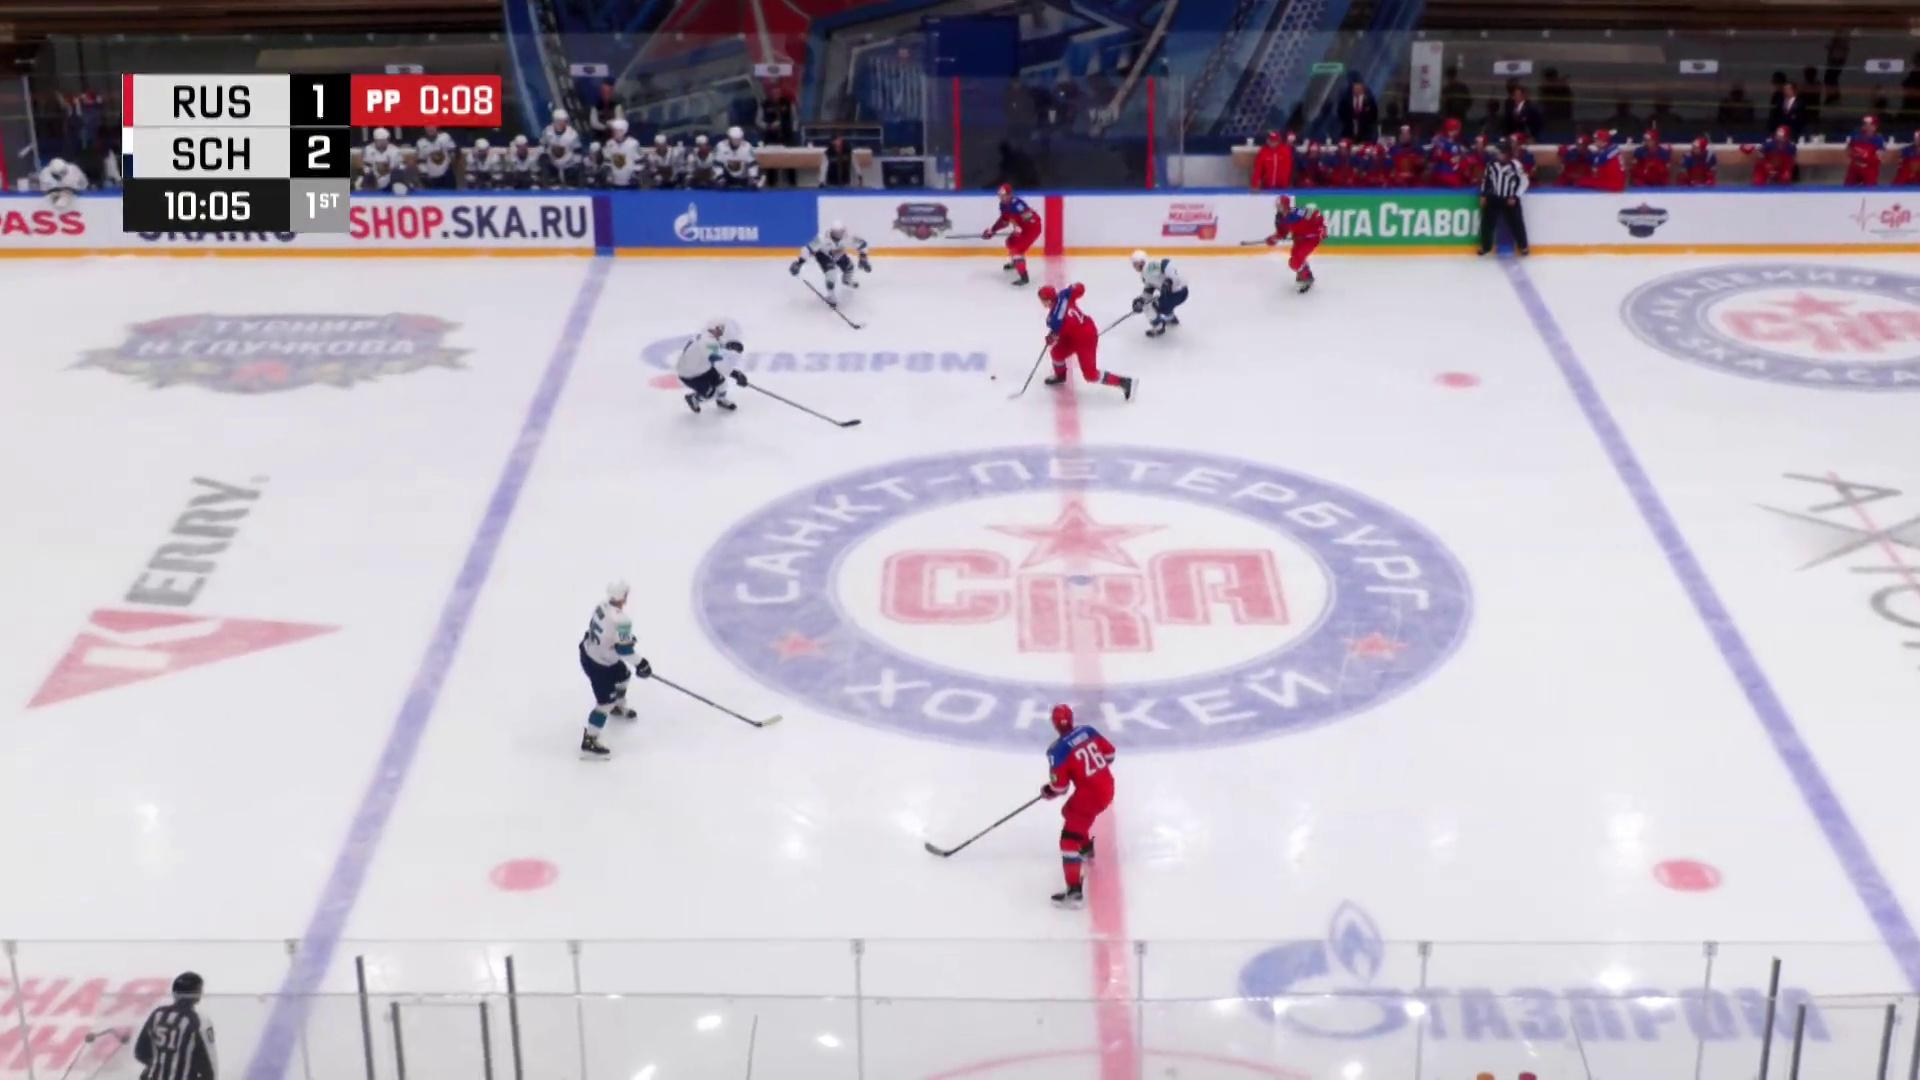ball: (989, 376, 997, 380)
